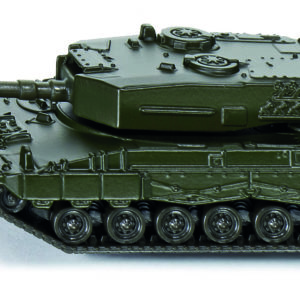Battle Tank: (1, 22, 300, 253)
